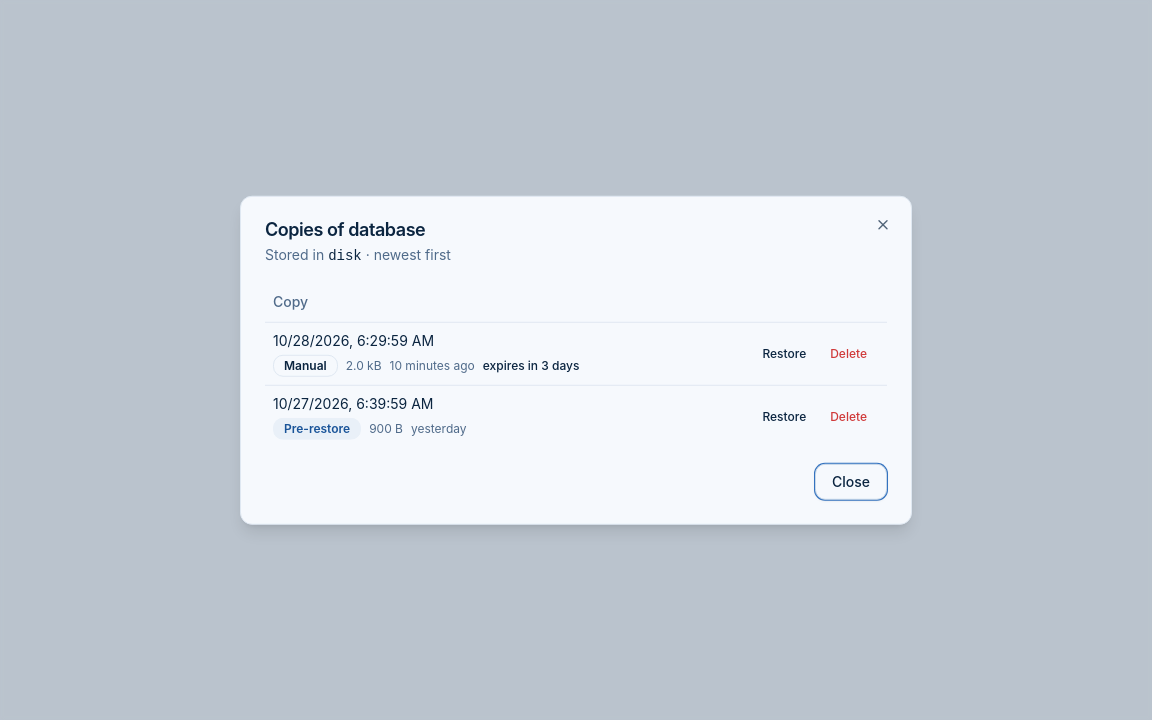
Test case: RestorePointsDialog › deletes a copy after a confirmation
Click the button "Delete" in the row of "10/27/2026, 6:39:59 AM" at {"x": 849, "y": 416}, box [818,400,879,432]
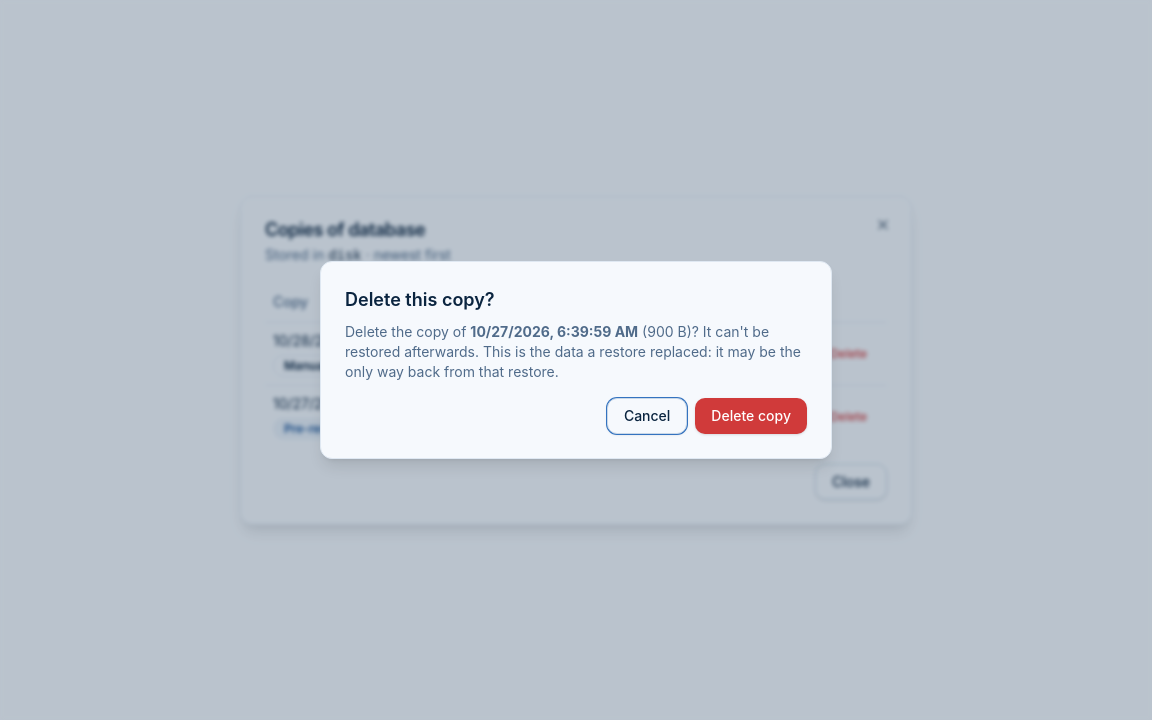
Check: the dialog that starts with "Delete this copy?" shows "(900 B)", box [647,323,687,340]
Check: the dialog that starts with "Delete this copy?" shows "may be the only way back from that restore", box [345,343,801,380]
Click the button "Cancel" at {"x": 647, "y": 416}, box [607,398,687,434]
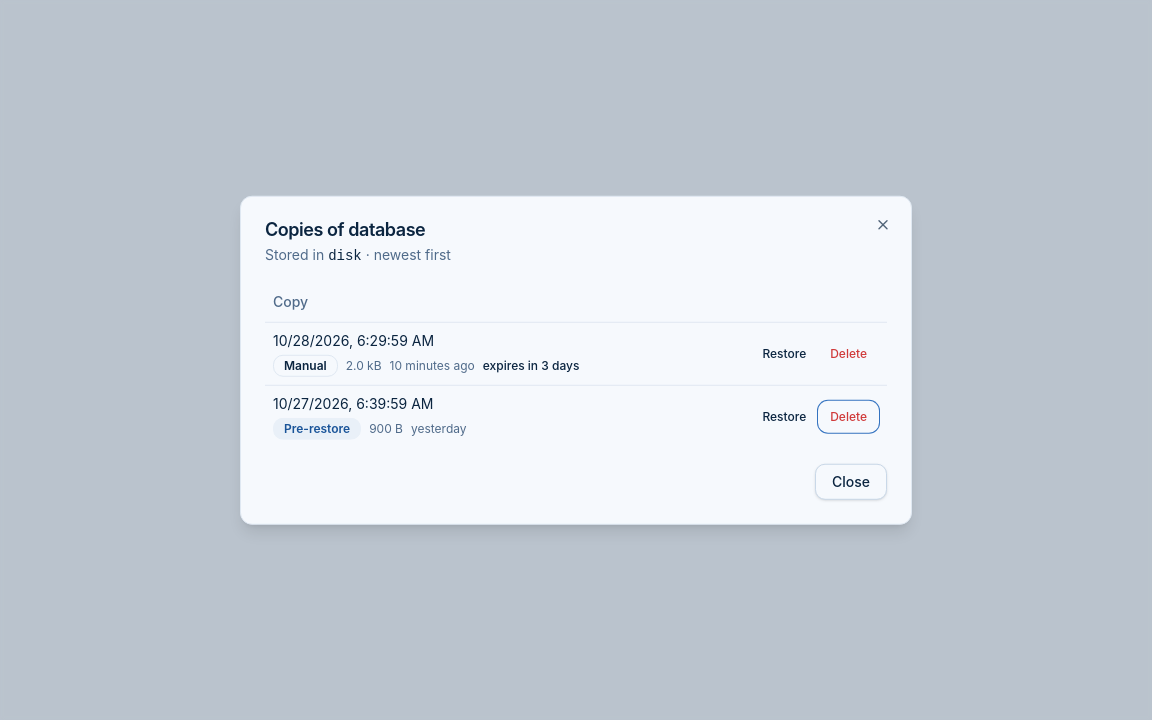
Click the button "Delete" in the row of "10/27/2026, 6:39:59 AM" at {"x": 849, "y": 416}, box [818,400,879,432]
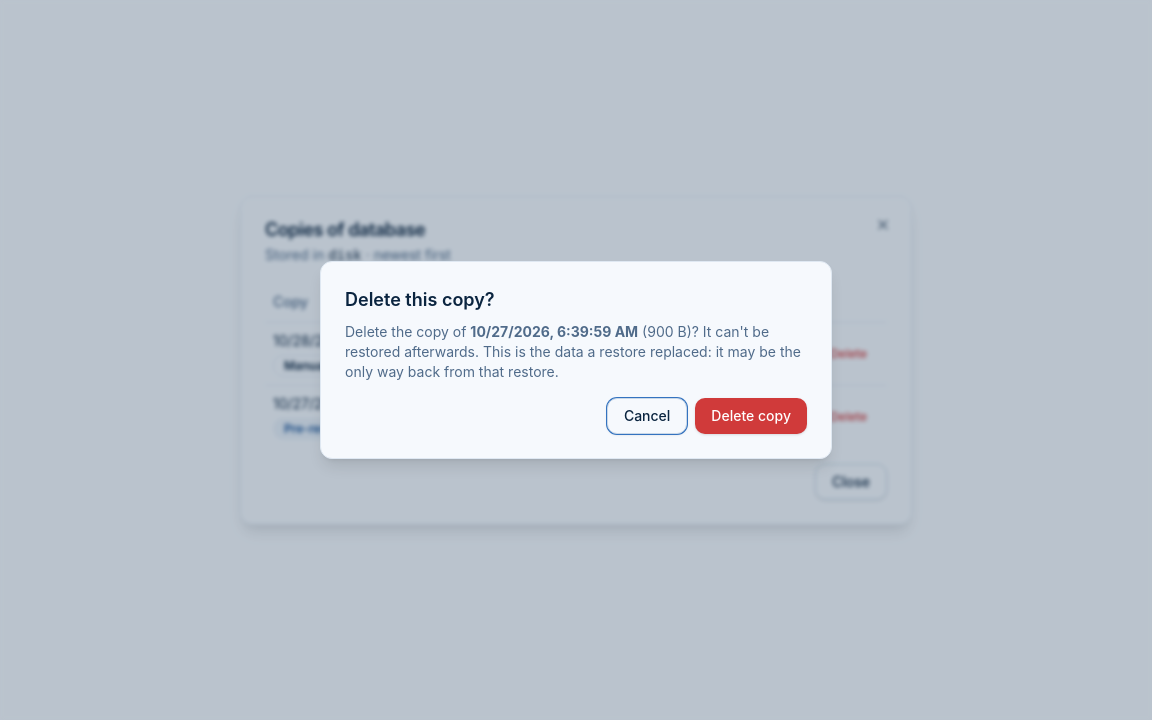
Click the button "Delete copy" at {"x": 751, "y": 416}, box [695,398,807,434]
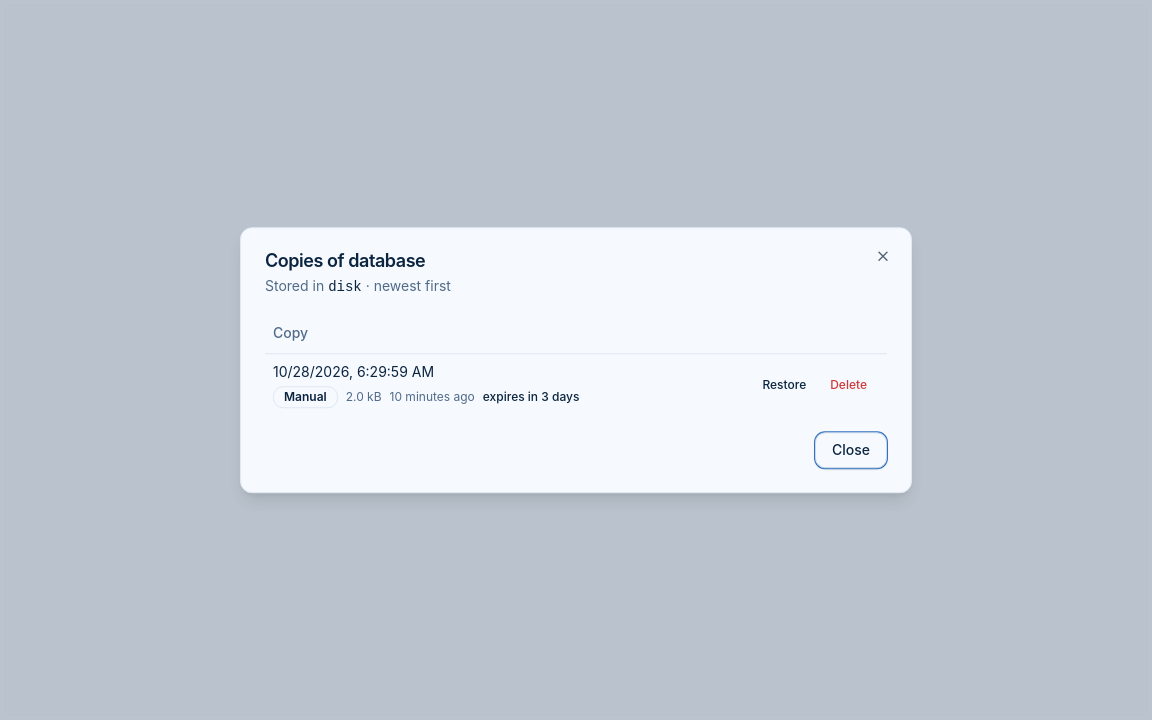
Check: the text "Pre-restore" is gone
